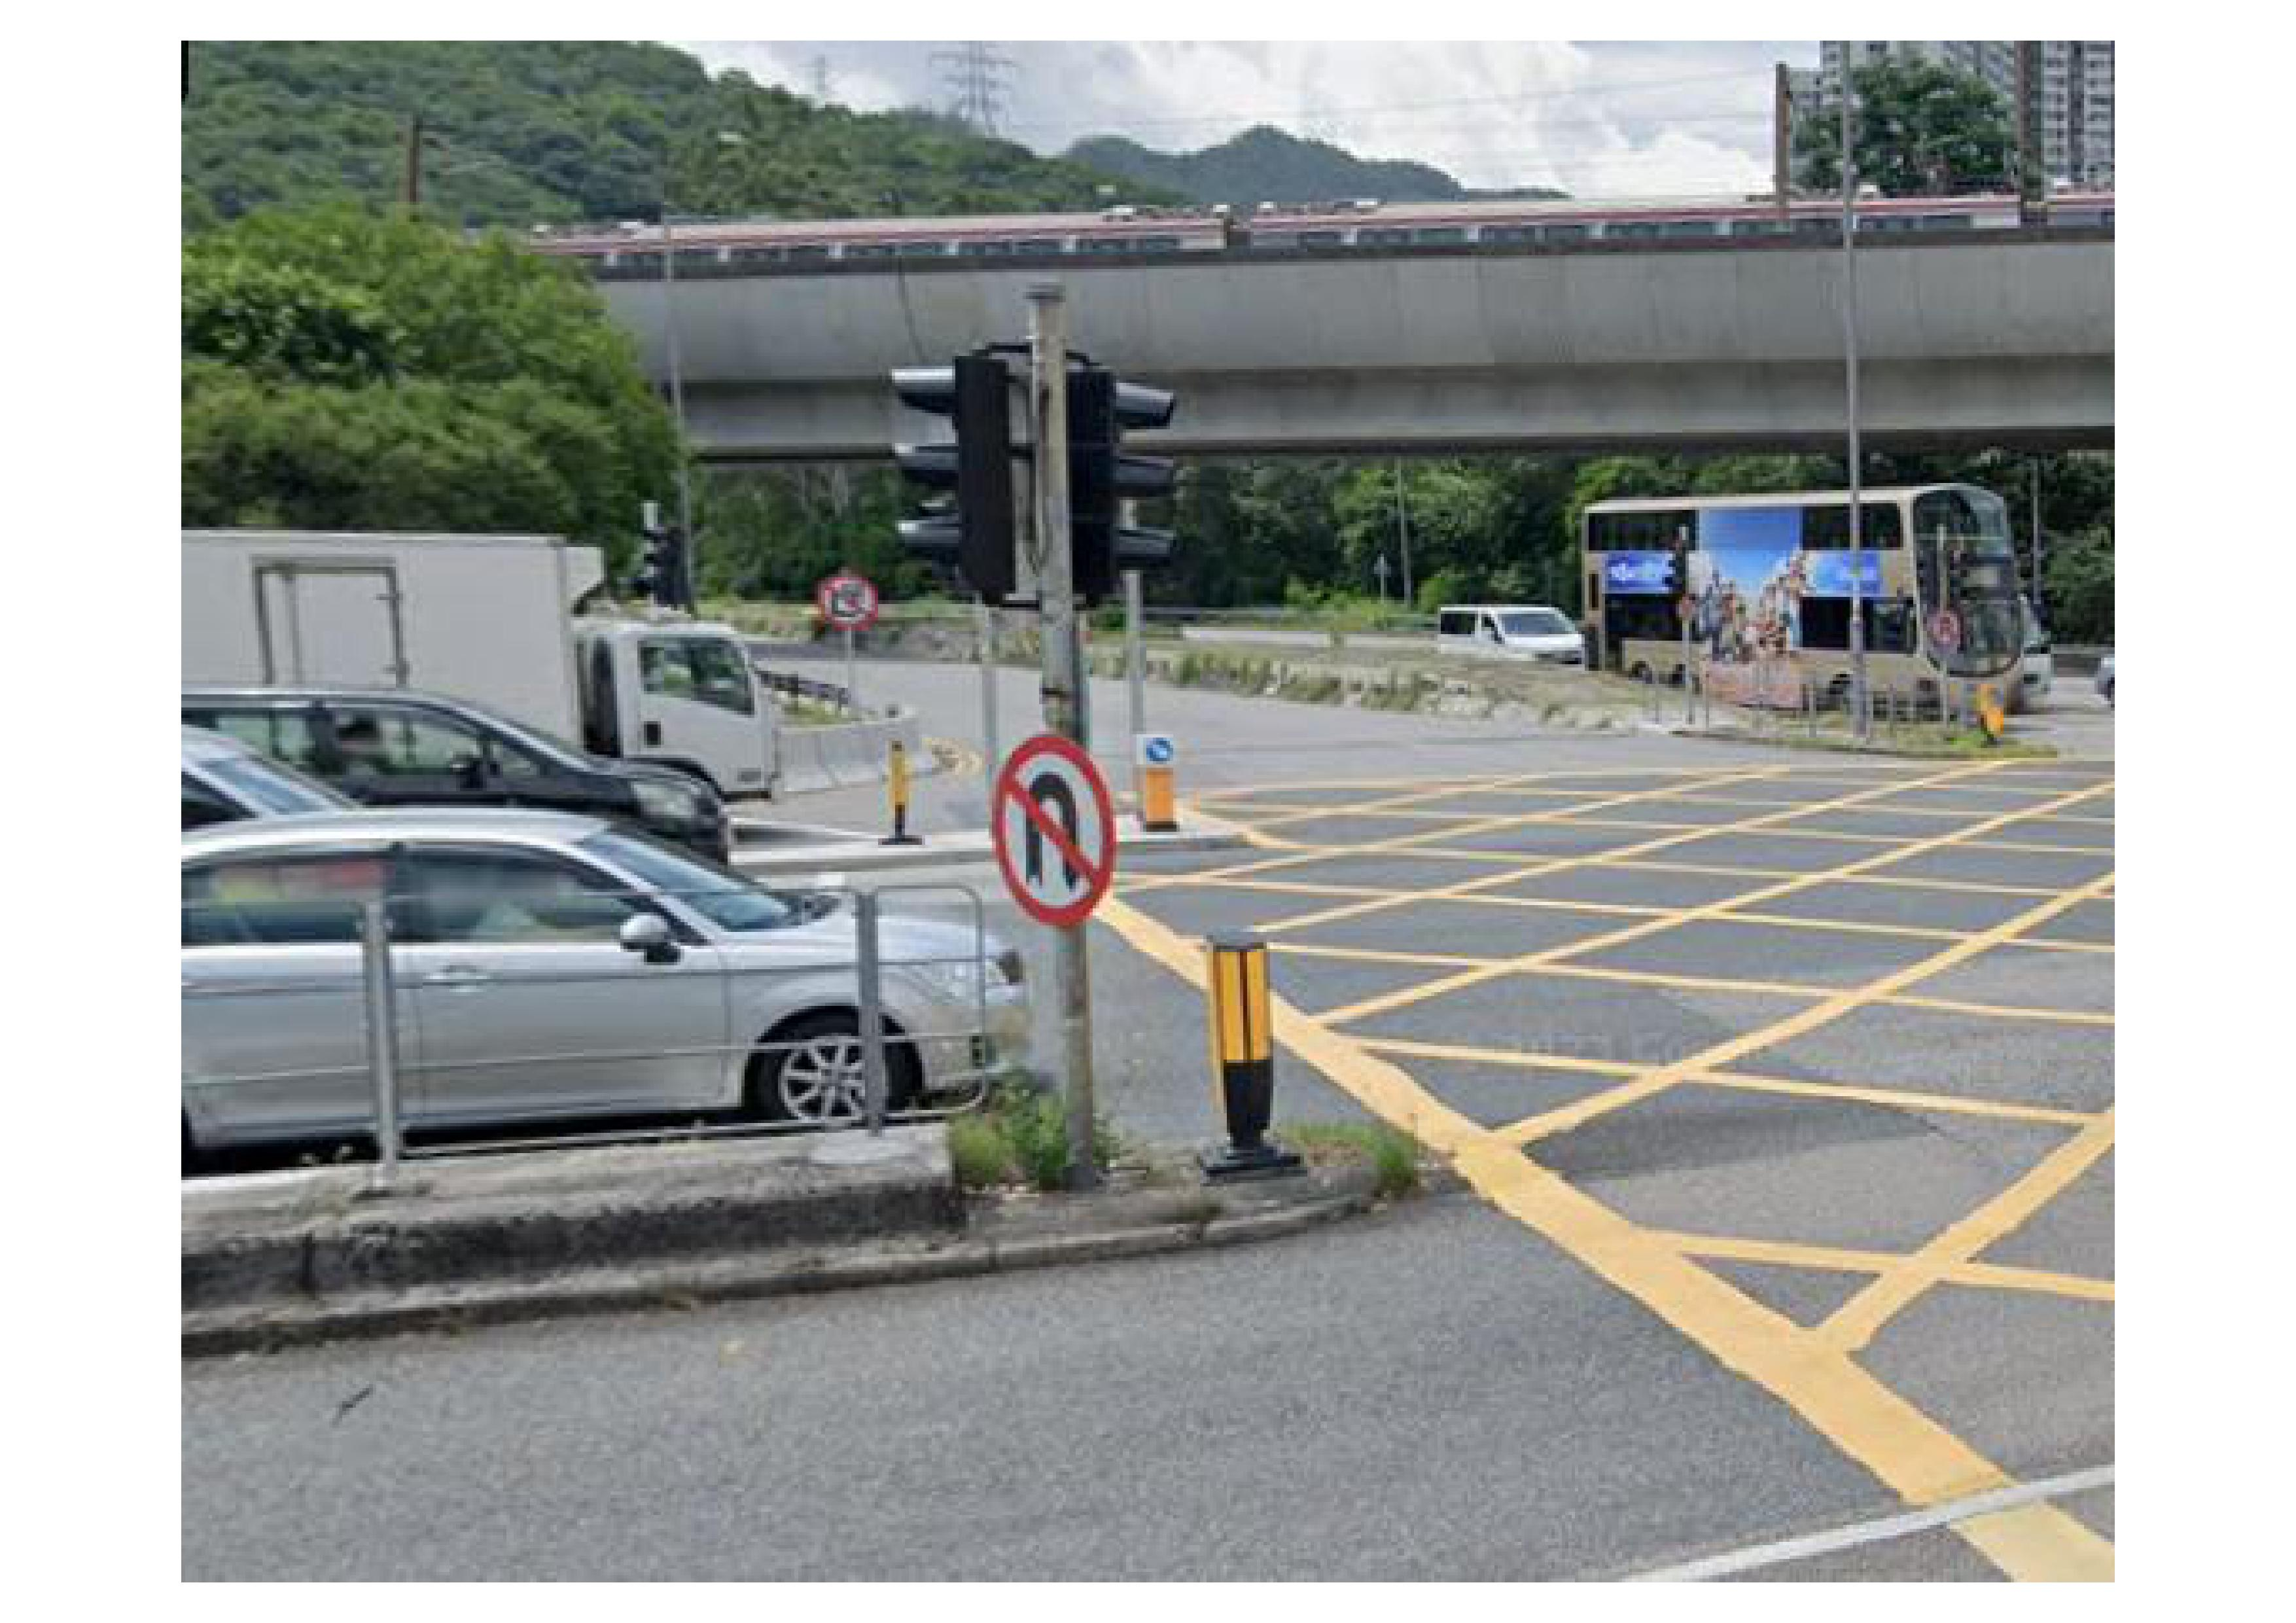No Uturn: (983, 732, 1122, 933)
